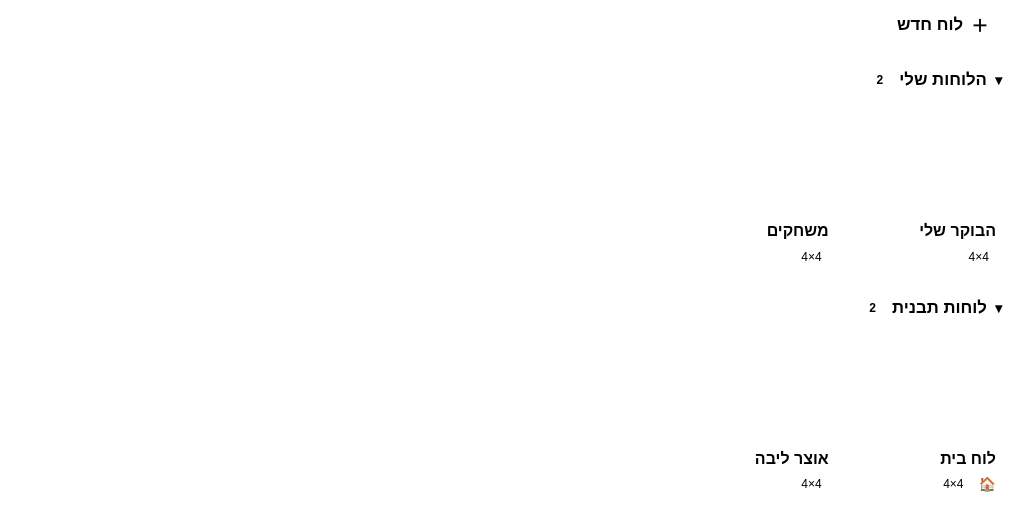
BoardLibrary › כיווץ קבוצה מסתיר את הכרטיסים (aria-expanded)
This screenshot has width=1024, height=509.
Click the button "▾ הלוחות שלי 2" at (943, 80), box [16,69,1008,91]
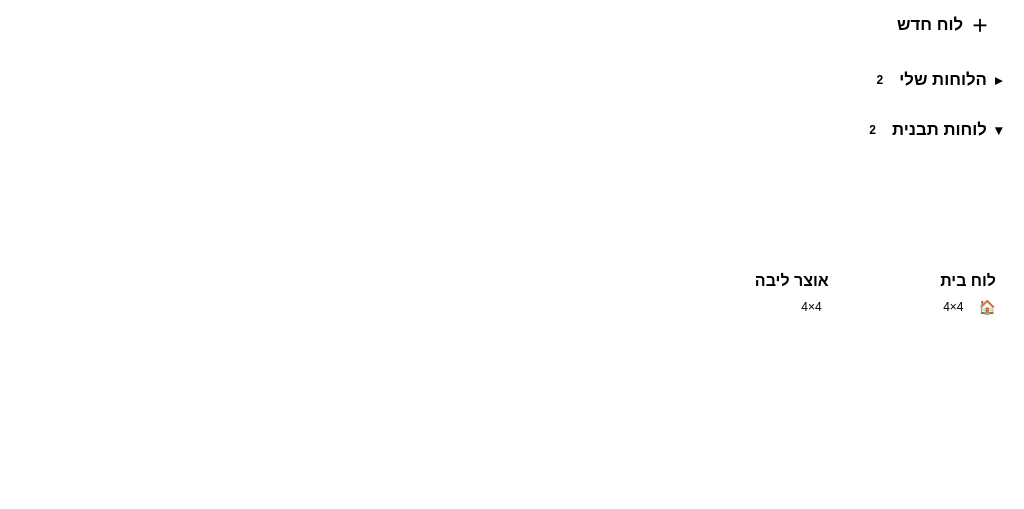
Expected: the button "▸ הלוחות שלי 2" is collapsed, [16,69,1008,91]
Expected: the button "הבוקר שלי" is gone
